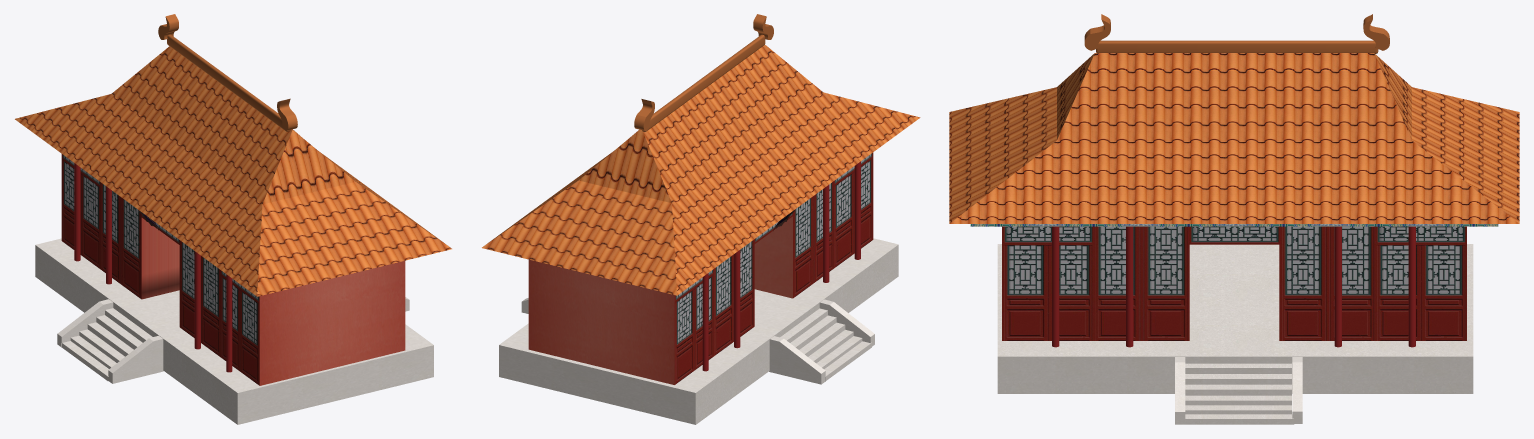
Rendered from jimen.FBX.
The picture shows the model from 3 angles, left to right: view 1: azimuth 30°, elevation 25°; view 2: azimuth 150°, elevation 25°; view 3: azimuth 270°, elevation 25°; orthographic projection. The views are drawn at different scales.
Visible parts, largest first — view 1: 12665; view 2: 12665; view 3: 12665.
Boxes of the visible parts, x1,y1,x2,y2 form: 12665: (15, 14, 451, 424); 12665: (482, 14, 920, 424); 12665: (949, 14, 1519, 424).
Bounding box in the file's own units: 242 × 210 × 340.
Materials: 9 (7 with a texture image).
